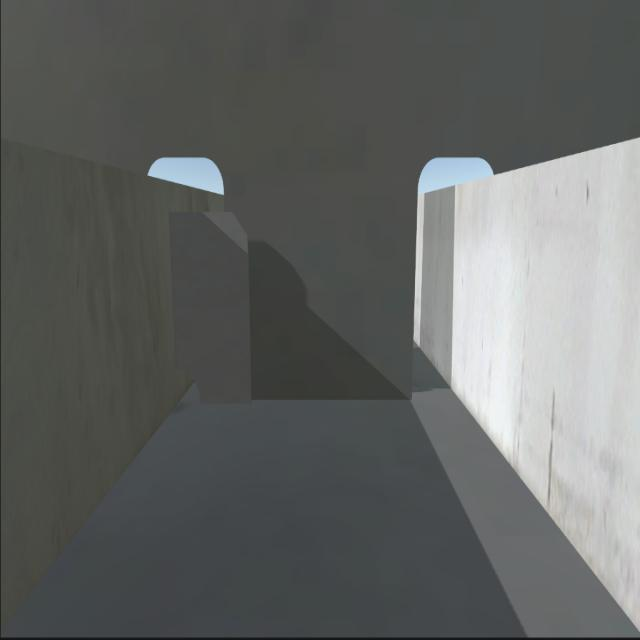fillet_hole: (172, 370, 204, 404)
fillet_yong_jeop_jang: (208, 396, 414, 409)
longi_yong_jeop_jang: (170, 214, 182, 364)
plate_CP03: (173, 206, 252, 402)
